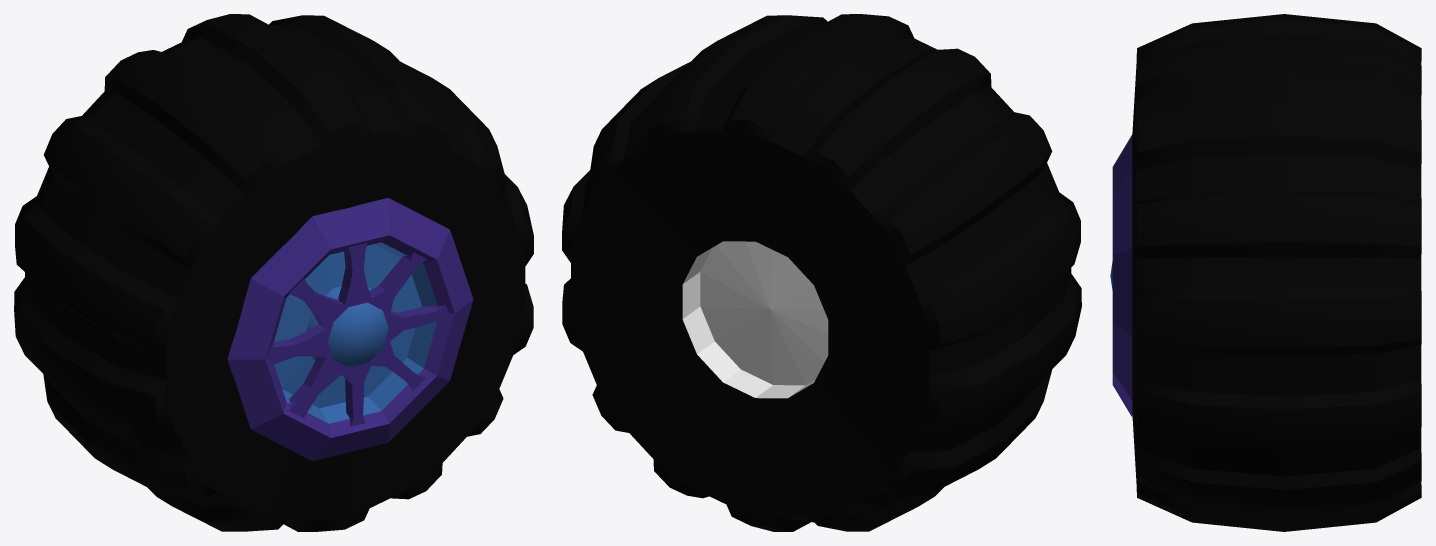
Rendered from wheel11.fbx.
3 views of the same model, side by side, from view 1: azimuth 30°, elevation 25°; view 2: azimuth 150°, elevation 25°; view 3: azimuth 270°, elevation 25° (orthographic).
Parts seen in each view (by area): view 1: lanot_wheel9_L; view 2: lanot_wheel9_L; view 3: lanot_wheel9_L.
Boxes of the visible parts, x1,y1,x2,y2 form: lanot_wheel9_L: [14, 14, 533, 531]; lanot_wheel9_L: [562, 14, 1081, 531]; lanot_wheel9_L: [1110, 14, 1421, 531].
Size of the model in its own units: 159 by 163 by 97.95.
